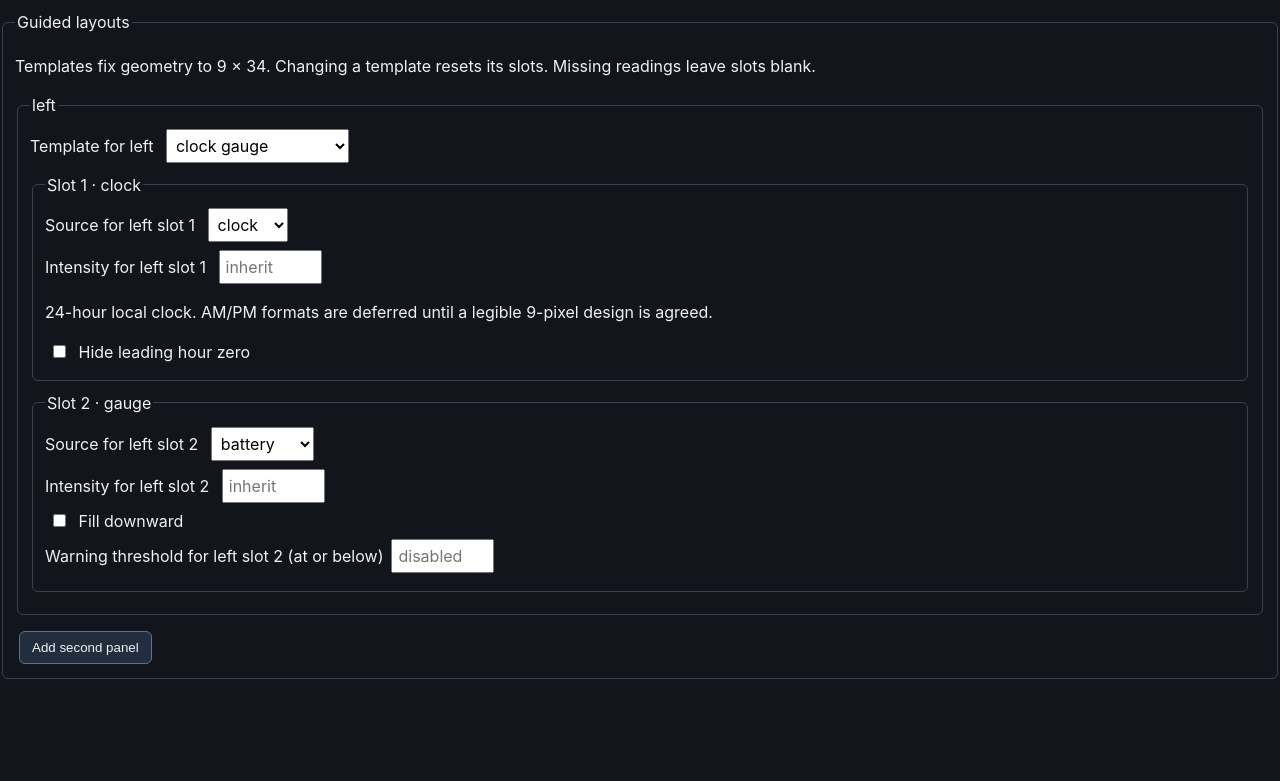
Test: guided slots permit empty/repeated widgets and template changes reset compatible slots
Select "Empty" in the dropdown labelled "Source for left slot 1" at (248,225), box [208,208,288,242]
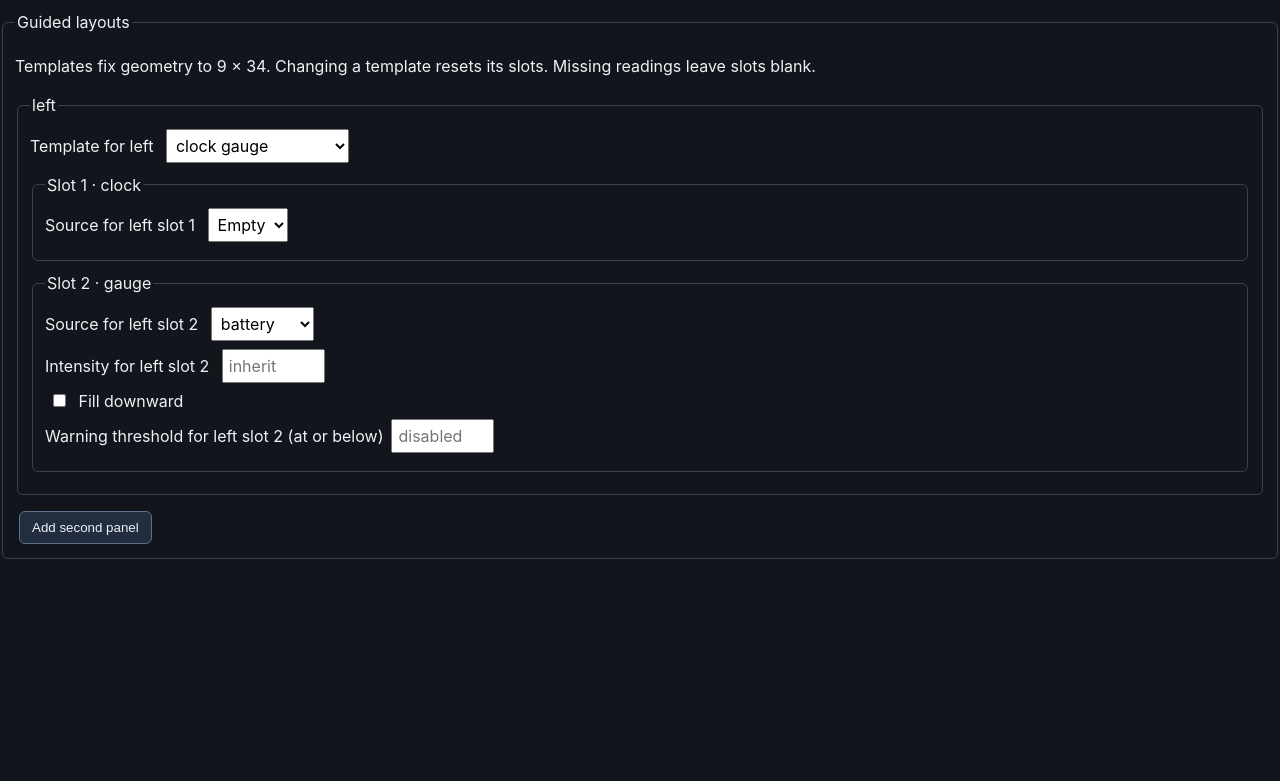
Check: the label labelled "Intensity for left slot 1" is gone
Select "full gauge" in the dropdown labelled "Template for left" at (257,146), box [166,129,349,163]
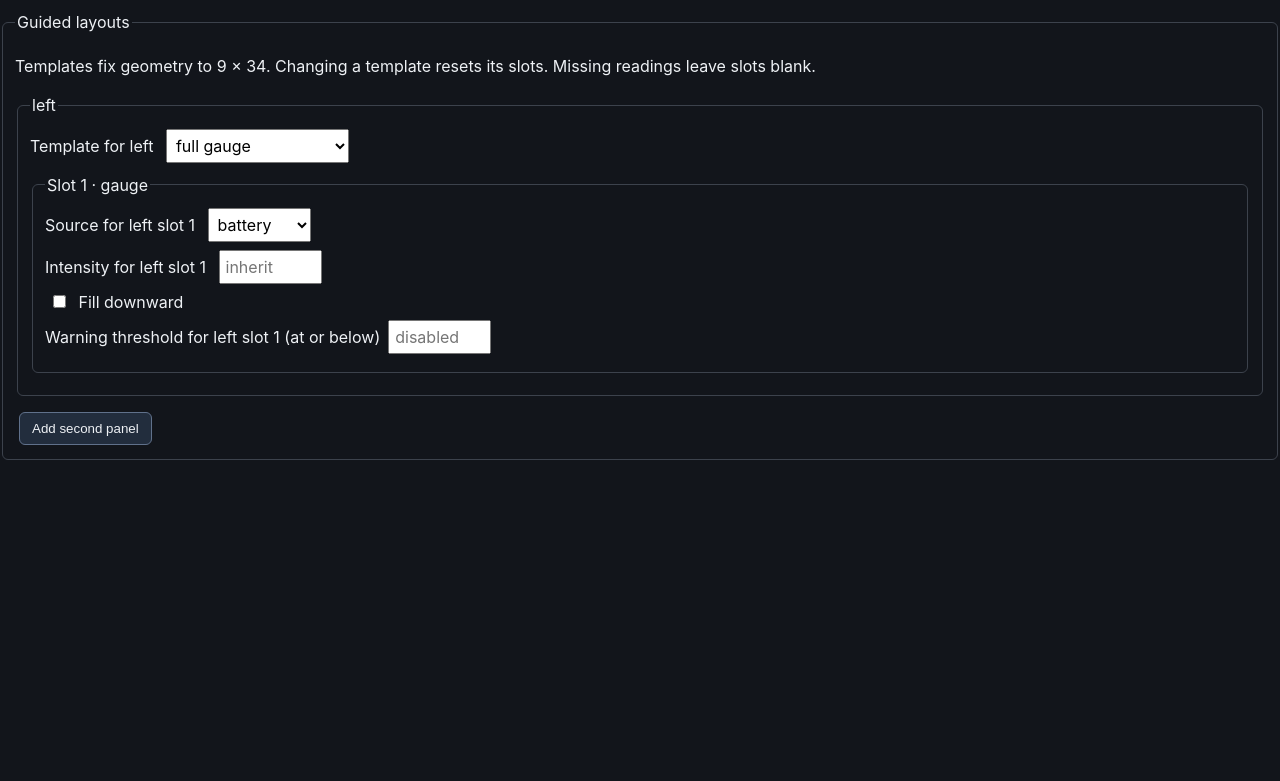
Check: the label labelled "Source for left slot 2" is gone
Click the button "Add second panel" at (85,429), box [19,412,152,445]
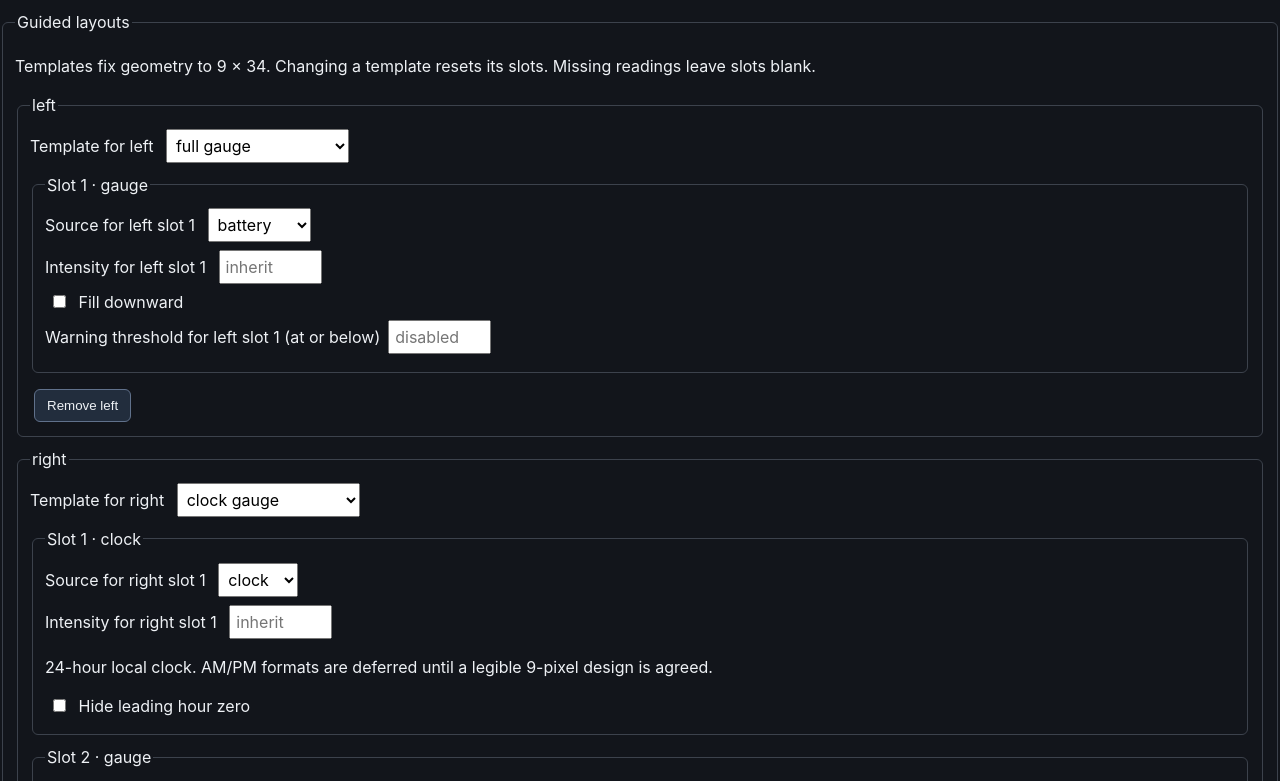
Check: the dropdown labelled "Template for right" is shown, box [177,483,360,517]
